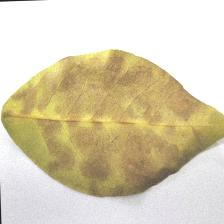canker: (34, 63, 168, 171)
